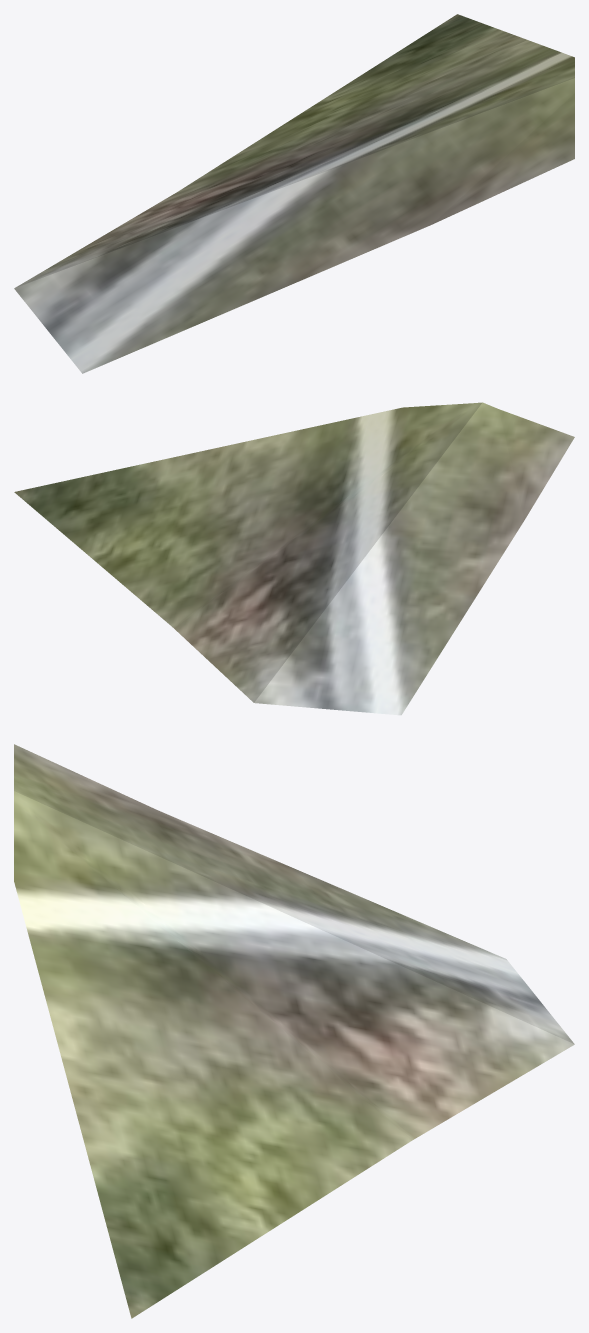
The picture shows the model from 3 angles, top to bottom: view 1: azimuth 90°, elevation 25°; view 2: azimuth 150°, elevation 25°; view 3: azimuth 270°, elevation 25°; orthographic projection. The views are drawn at different scales.
Bounding box in the file's own units: 1.62 × 0.4863 × 1.07.
Materials: 1 (1 with a texture image).
